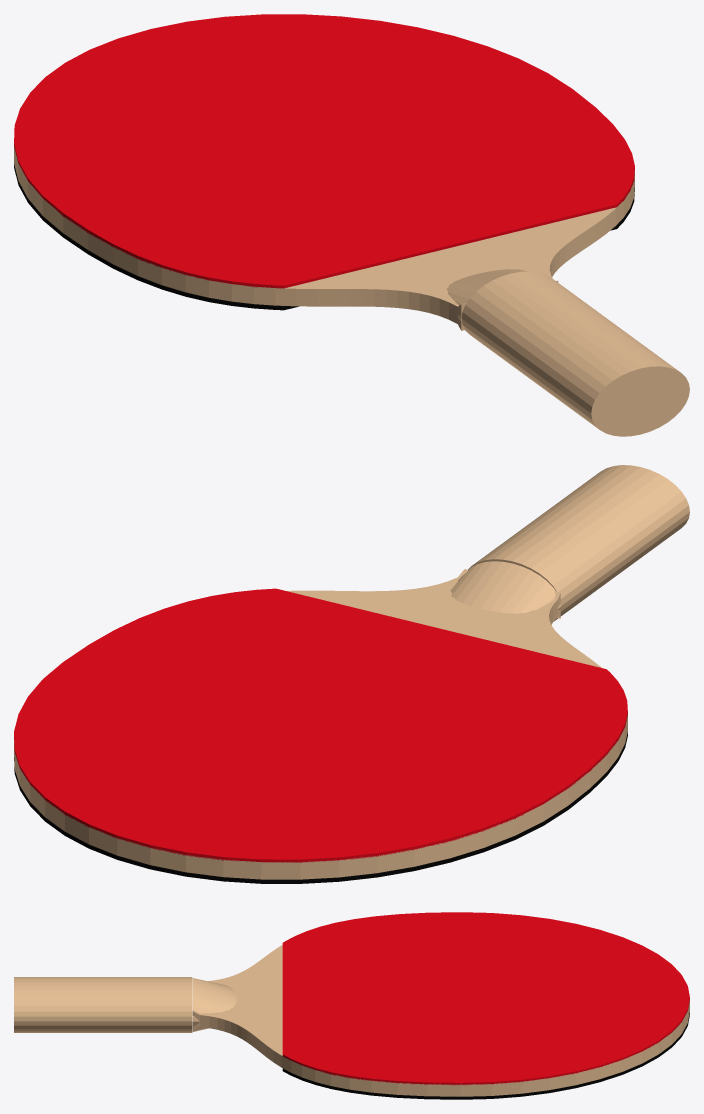
File: paddle.glb
The picture shows the model from 3 angles, top to bottom: view 1: azimuth 30°, elevation 25°; view 2: azimuth 150°, elevation 25°; view 3: azimuth 270°, elevation 25°; orthographic projection. The views are drawn at different scales.
Visible parts, largest first — view 1: paddle; view 2: paddle; view 3: paddle.
Boxes of the visible parts, <box> form: paddle: <box>14,14,689,436</box>; paddle: <box>14,465,689,883</box>; paddle: <box>14,912,689,1099</box>.
Size of the model in its own units: 0.3429 by 0.0426 by 0.5738.
